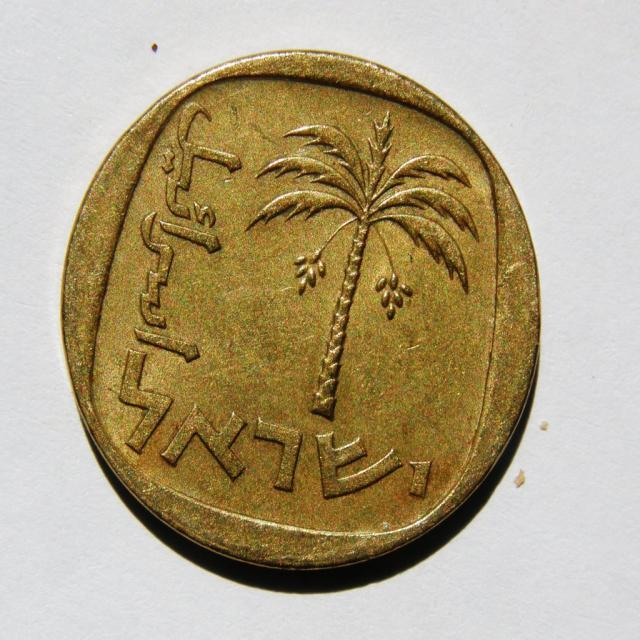Coin: (56, 48, 542, 575)
